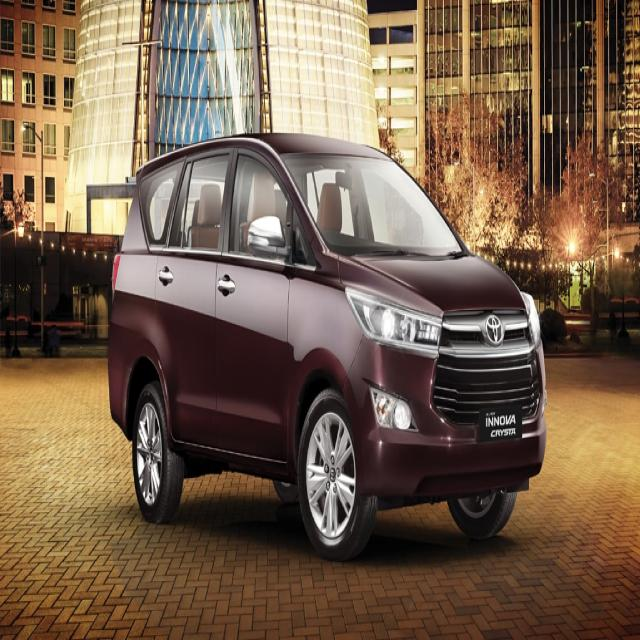light_vehicle: (107, 129, 548, 561)
